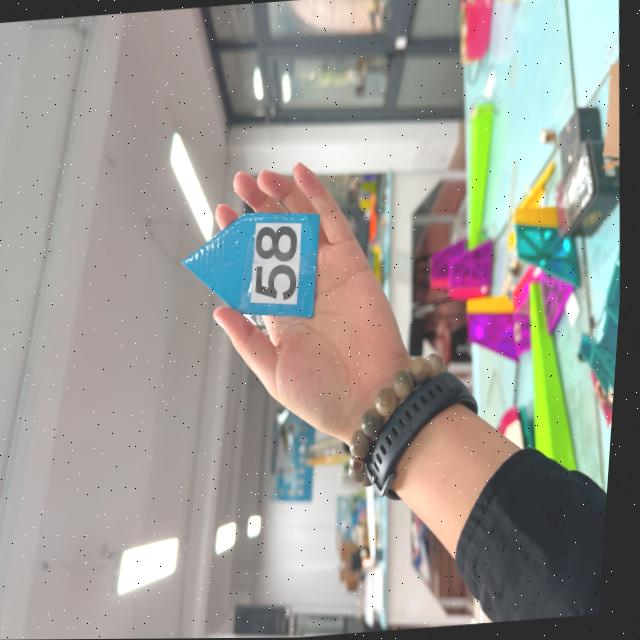board: (184, 210, 324, 320)
